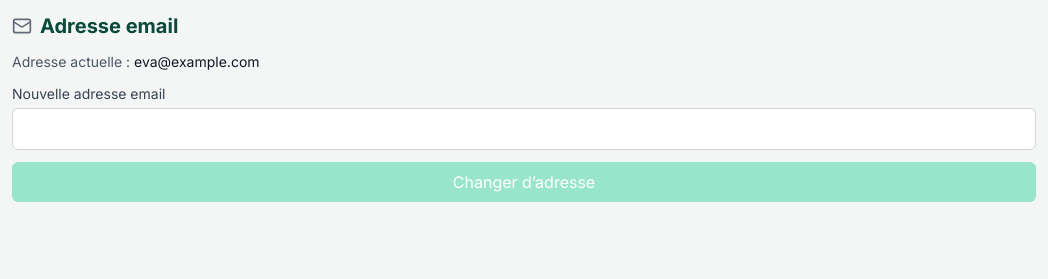
Test: EmailChangeForm › refuse une adresse invalide ou identique
Step 1. Type "pas-une-adresse" into the field labelled "Nouvelle adresse email" → (524, 129), box [12,108,1036,150]
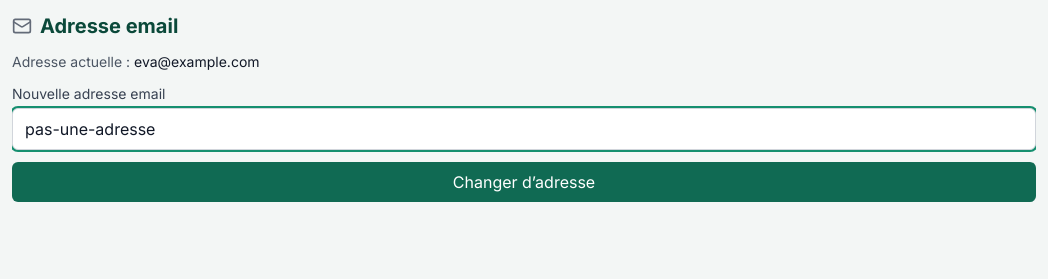
Step 2. Click the button "Changer d’adresse" → (524, 182), box [12,162,1036,202]
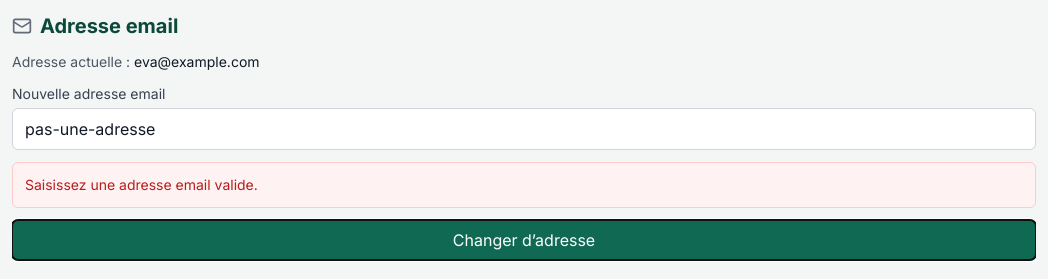
Expected: the message shows "adresse email valide", [25,176,258,193]
Step 3. Replace the text in the field labelled "Nouvelle adresse email" with "EVA@example.com " → (524, 129), box [12,108,1036,150]
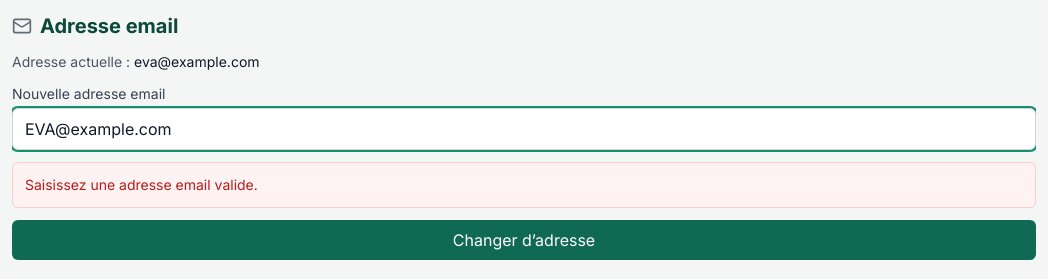
Step 4. Click the button "Changer d’adresse" → (524, 240), box [12,220,1036,260]
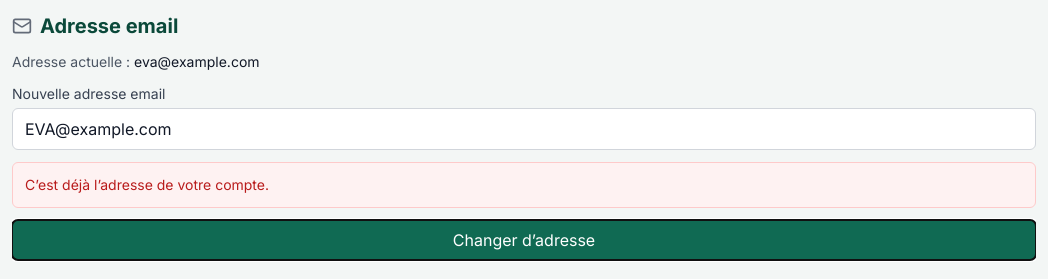
Expected: the message shows "déjà l’adresse de votre compte", [25,176,269,193]
